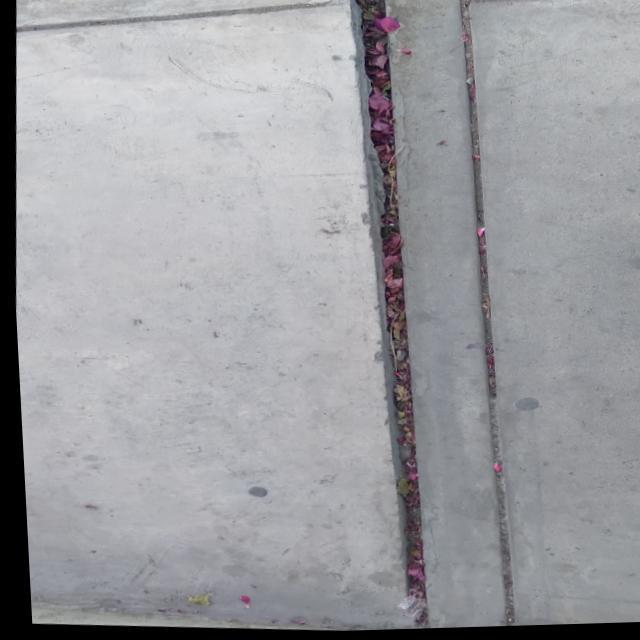hole: (301, 0, 457, 633)
